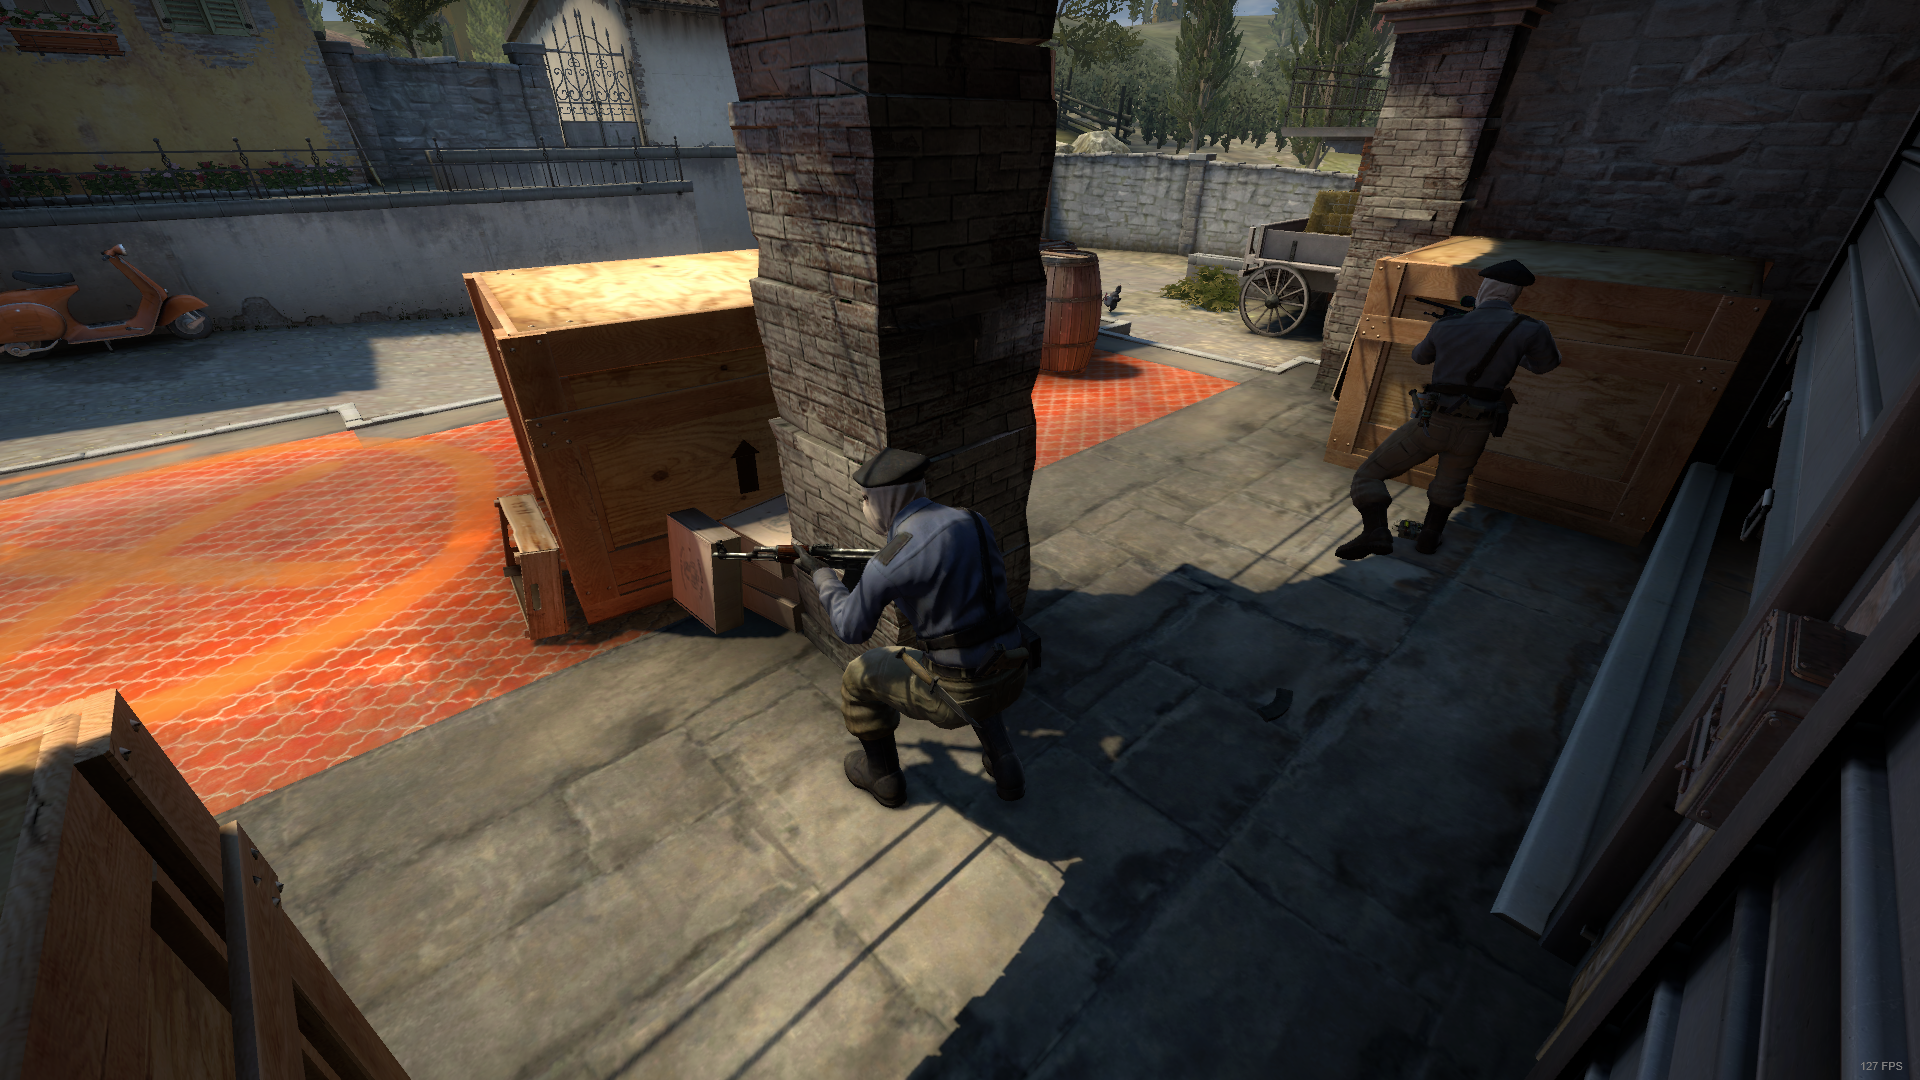t: (796, 436, 1043, 823), (1327, 257, 1565, 576)
